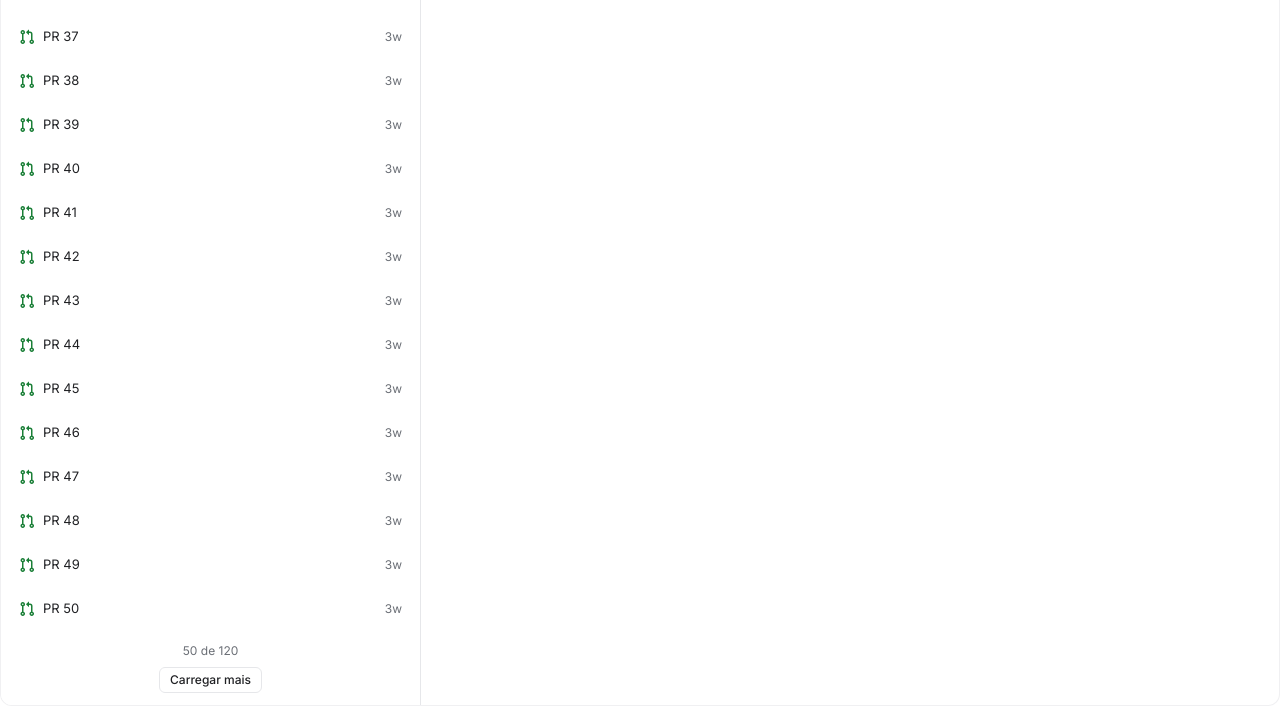
Test: reviews: tempo real sem apagar o "carregar mais" (#48) › rajada de eventos = um refetch, com limit = carregados
The width and height of the screenshot is (1280, 706).
(page scrolled)
What coordinates should you click on to do the following:
click the button "Carregar mais"
I would click on:
 (210, 680)
Its box is [159,667,262,693].
Wait 800 ms
(page scrolled)
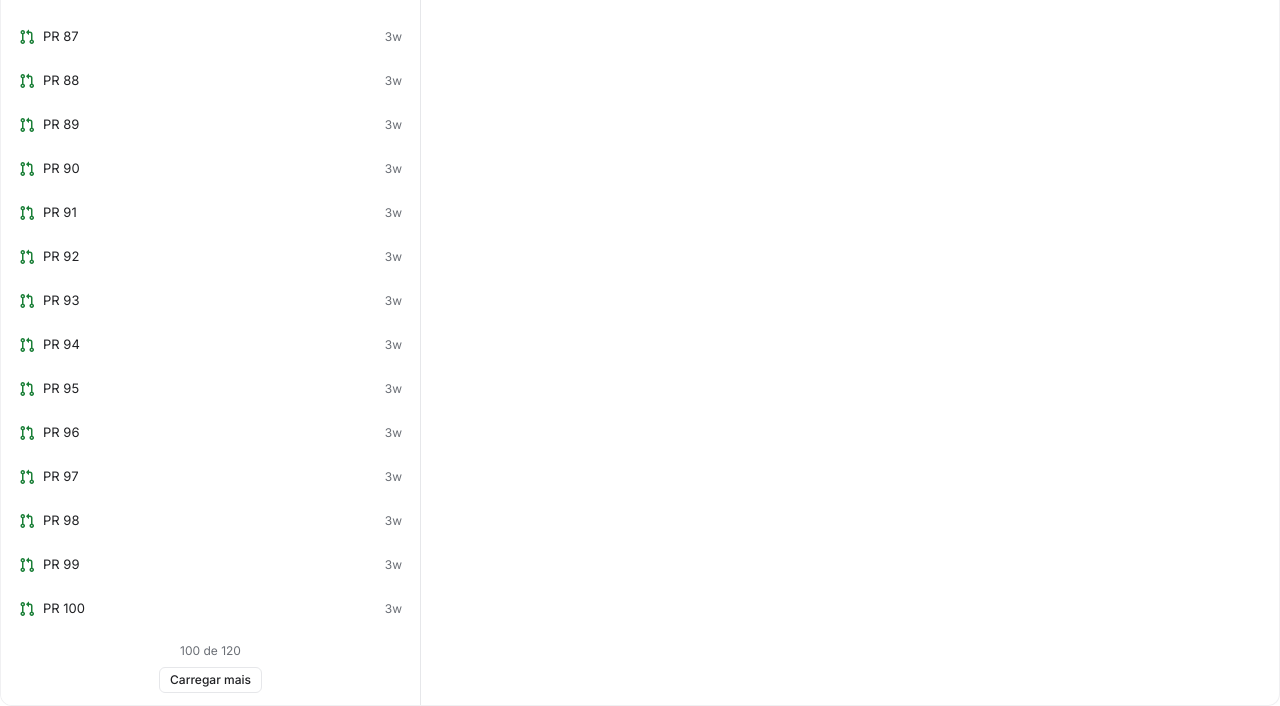
Expected: the text "PR 100" is shown, [43,600,85,616]
